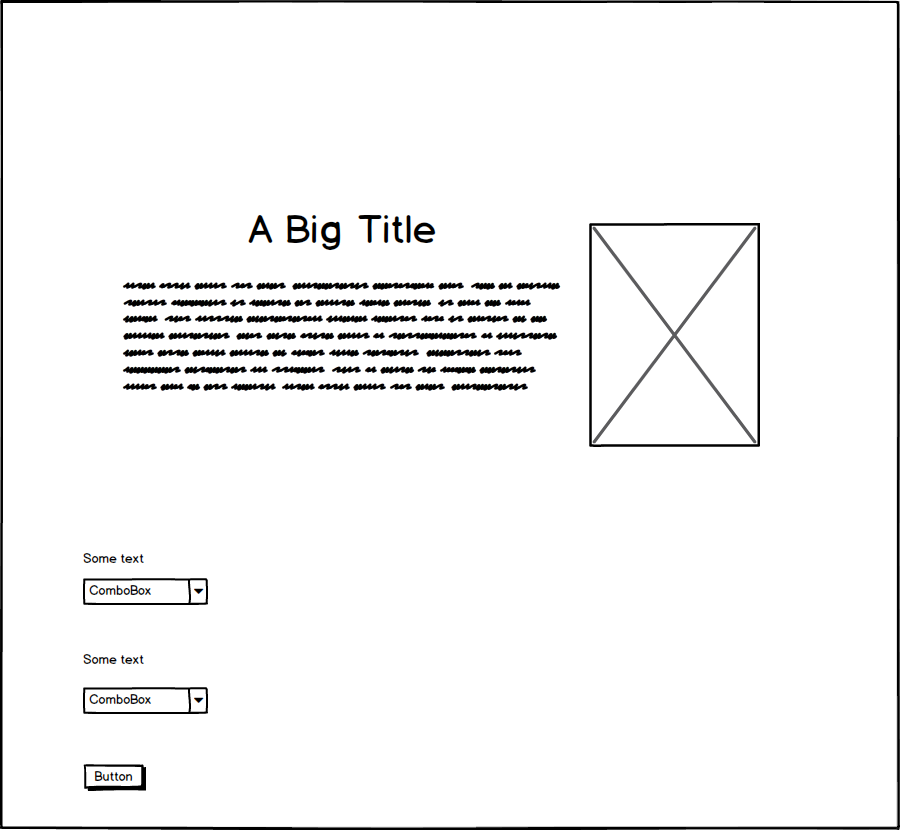button: (78, 762, 154, 796)
h1: (242, 207, 445, 253)
image: (585, 219, 766, 452)
label: (68, 544, 153, 569), (77, 648, 153, 672)
p: (117, 277, 570, 400)
select_box: (75, 574, 220, 611), (74, 681, 211, 719)
